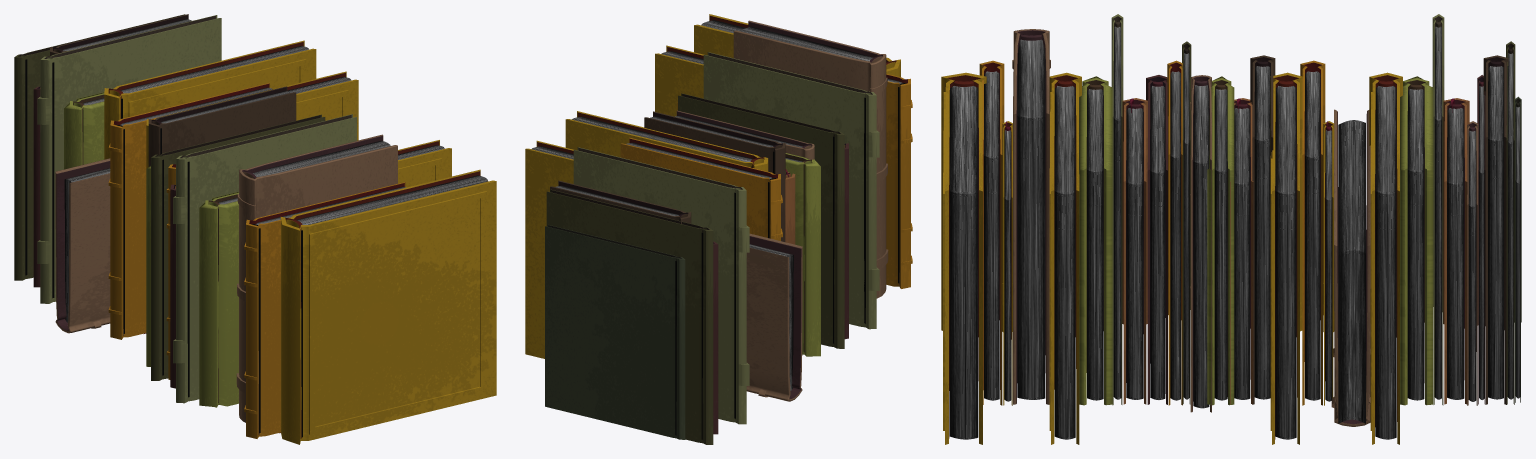
File: Shelf11.fbx
3 views of the same model, side by side, from view 1: azimuth 30°, elevation 25°; view 2: azimuth 150°, elevation 25°; view 3: azimuth 270°, elevation 25° (orthographic). The views are drawn at different scales.
Visible parts, largest first — view 1: pCube12 (×4), pCube14 (×2), pCube15 (×3), pCube71 (×2), pCube11 (×3), pCube67 (×2), pCube68 (×2), pages14 (×2), pCube69 (×2), pages13 (×2), pages11 (×2), pages16 (×2) (+2 smaller); view 2: pCube14 (×2), pCube66, pCube67 (×2), pCube71 (×3), pCube12 (×4), pCube15 (×2), pCube11, pCube68 (×2), pCube69 (×2), pages13 (×2), pages11 (×2), pages14 (+5 smaller); view 3: pages14 (×4), pages13 (×3), pCube12 (×4), pCube11 (×3), pages17 (×3), pages15 (×3), pages11 (×3), pages8 (×2), pCube71 (×3), pages9 (×2), pCube72 (×3), pCube15 (×3) (+12 smaller).
Boxes of the visible parts, x1,y1,x2,y2 form: pCube12 (×4): (104, 40, 496, 444); pCube14 (×2): (37, 15, 356, 403); pCube15 (×3): (108, 82, 405, 438); pCube71 (×2): (55, 134, 397, 422); pCube11 (×3): (64, 92, 238, 407); pCube67 (×2): (14, 14, 325, 380); pCube68 (×2): (50, 14, 296, 166); pages14 (×2): (120, 46, 488, 437); pCube69 (×2): (33, 86, 175, 388); pages13 (×2): (64, 140, 390, 322); pages11 (×2): (116, 87, 406, 433); pages16 (×2): (52, 62, 189, 397); pCube14 (×2): (573, 52, 879, 424); pCube66: (545, 225, 685, 439); pCube67 (×2): (546, 93, 844, 444); pCube71 (×3): (676, 20, 888, 401); pCube12 (×4): (525, 14, 900, 358); pCube15 (×2): (620, 73, 912, 288); pCube11: (785, 153, 820, 356); pCube68 (×2): (550, 111, 785, 241); pCube69 (×2): (713, 143, 848, 434); pages13 (×2): (740, 26, 873, 390); pages11 (×2): (626, 78, 906, 283); pages14: (572, 116, 752, 167); pages14 (×4): (949, 86, 1396, 439); pages13 (×3): (1017, 39, 1365, 423); pCube12 (×4): (941, 72, 1402, 444); pCube11 (×3): (1079, 76, 1433, 405); pages17 (×3): (1126, 108, 1464, 399); pages15 (×3): (1087, 89, 1424, 400); pages11 (×3): (984, 71, 1320, 400); pages8 (×2): (1254, 66, 1503, 399); pCube71 (×3): (1012, 29, 1370, 426); pages9 (×2): (1150, 86, 1484, 399); pCube72 (×3): (1122, 98, 1469, 404); pCube15 (×3): (979, 60, 1325, 405).
Size of the model in its own units: 1.14 by 1.07 by 1.84.
